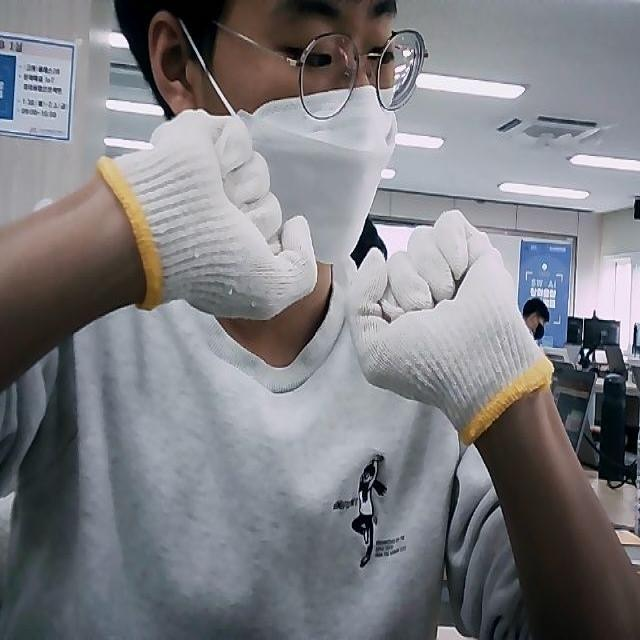Guantes: (355, 208, 554, 441), (101, 109, 318, 319)
